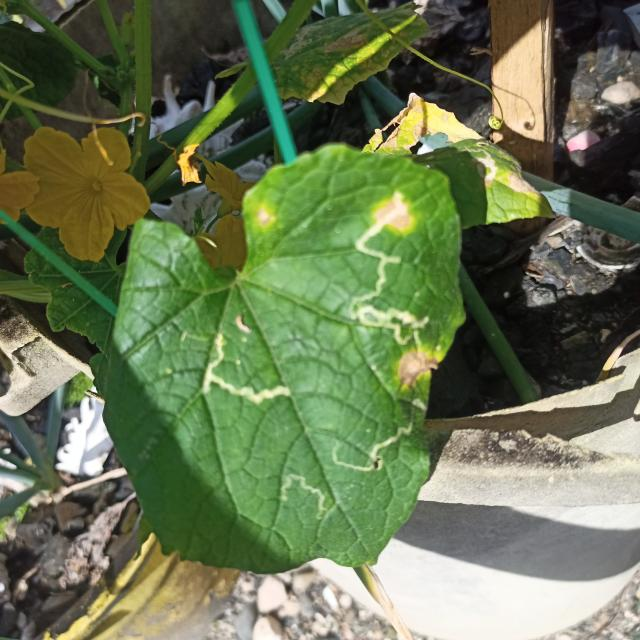disease_cucumber: (393, 348, 440, 389), (373, 197, 416, 234), (252, 201, 274, 231)
